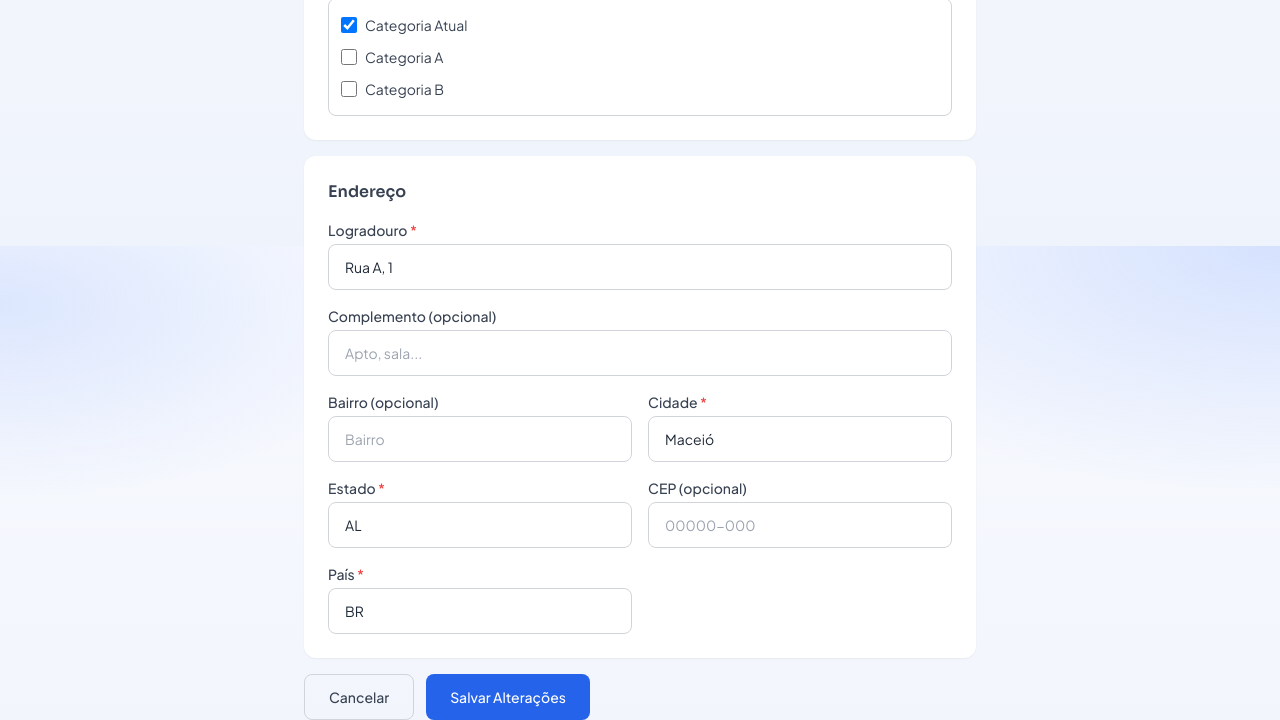
Test case: PartitionEditPage › shared behavior › shows error in save modal on update failure
The image size is (1280, 720).
(page scrolled)
Click the button "Salvar Alterações". click: (508, 697)
box: [426, 674, 590, 719]
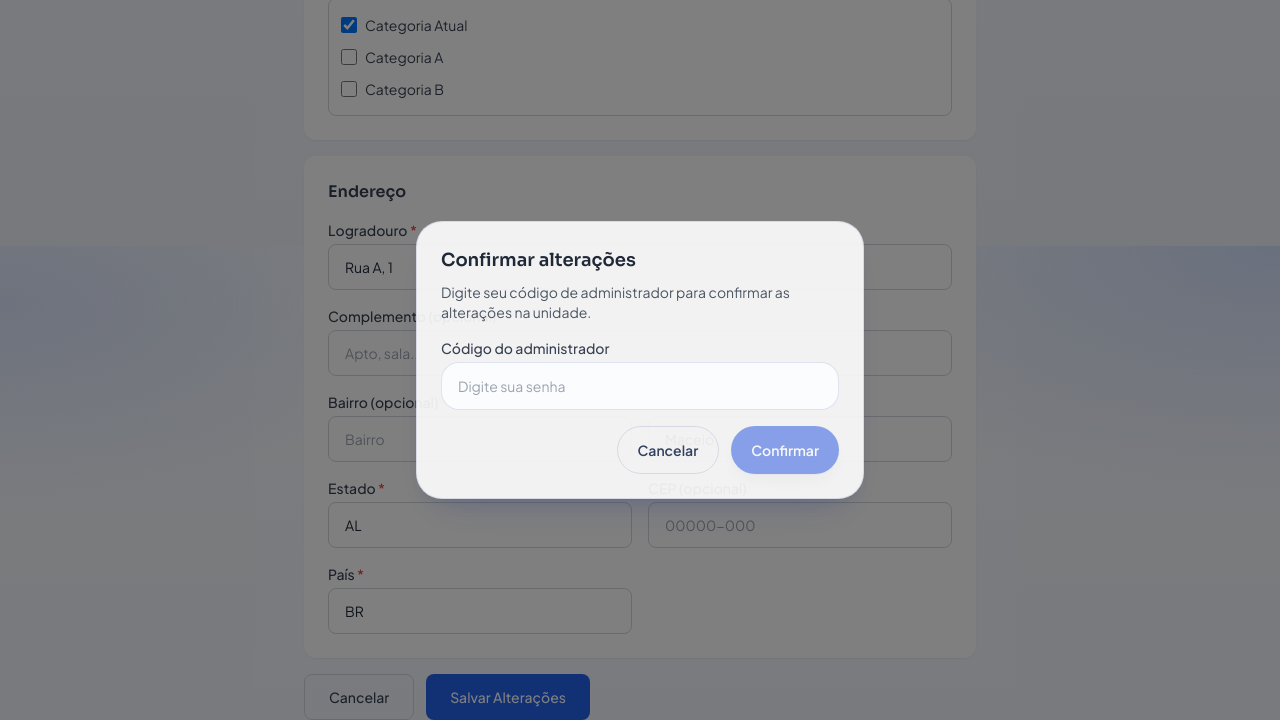
Expected: the dialog is shown
Type "my-code" into the password field labelled "Código do administrador". click: (640, 386)
box: [441, 362, 839, 410]
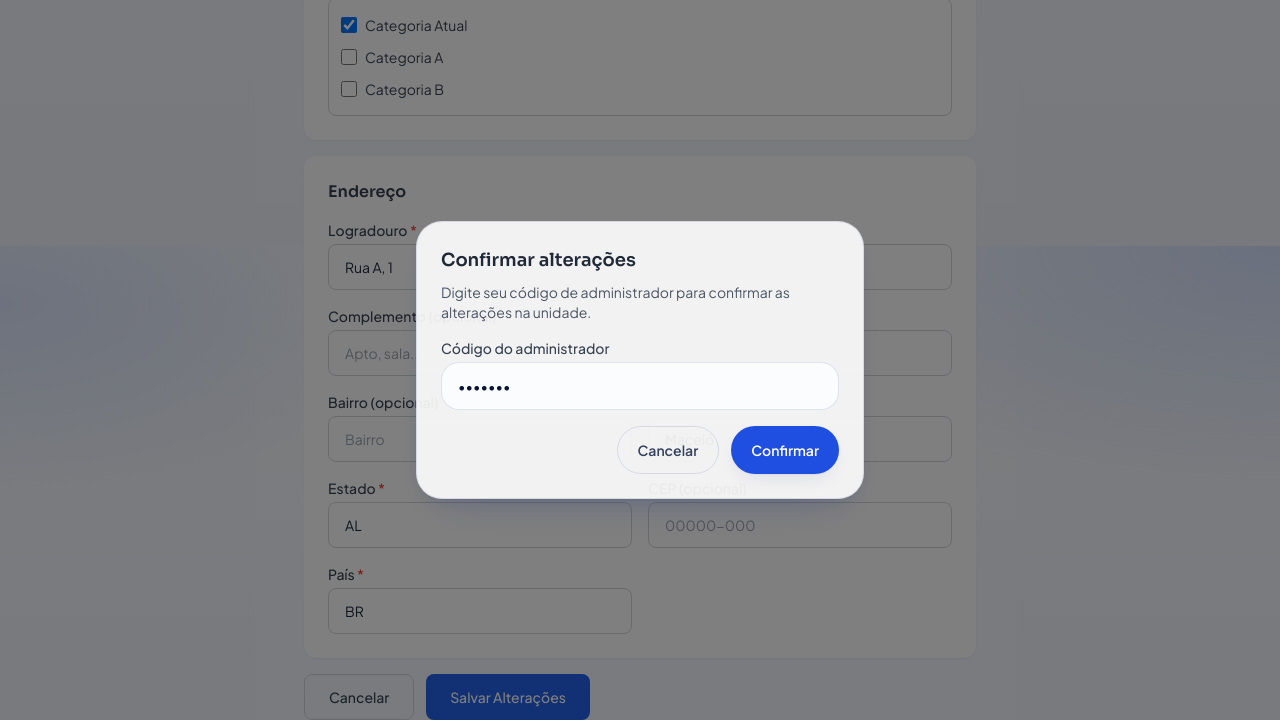
Click the button "Confirmar". click: (785, 450)
box: [731, 426, 839, 474]
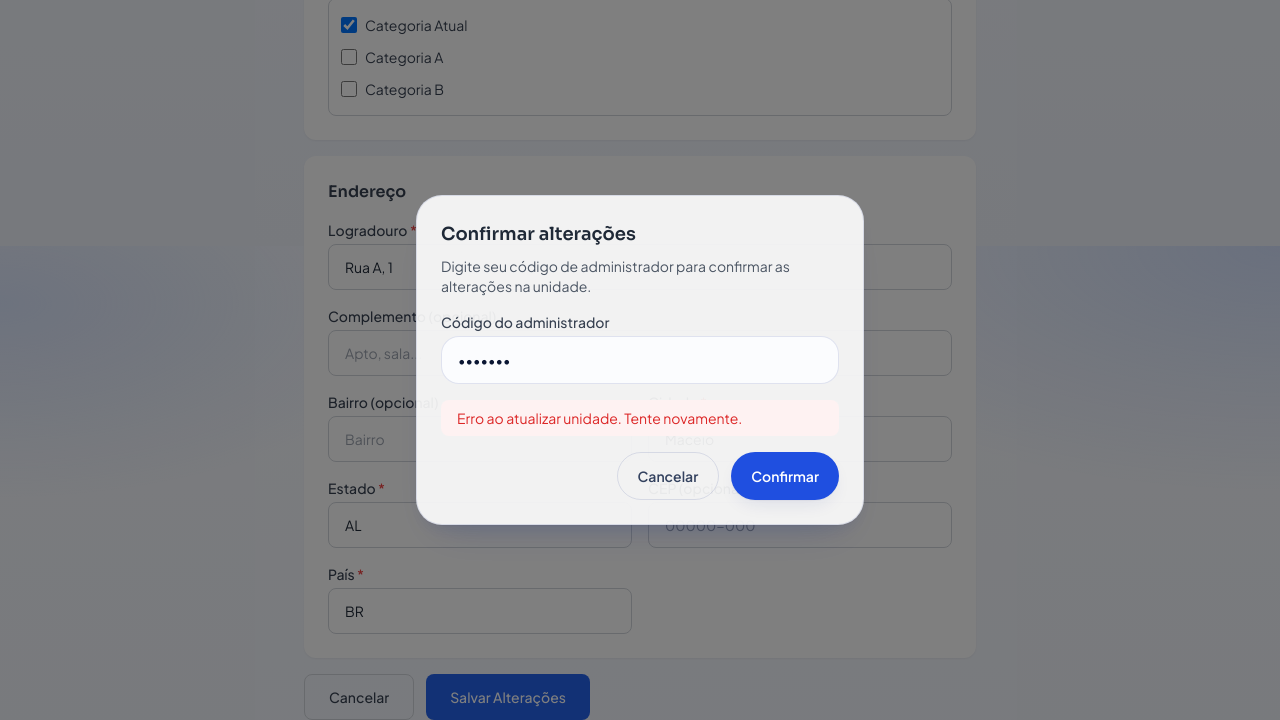
Expected: the text "Erro ao atualizar unidade. Tente novamente." is shown, [441, 400, 839, 436]
